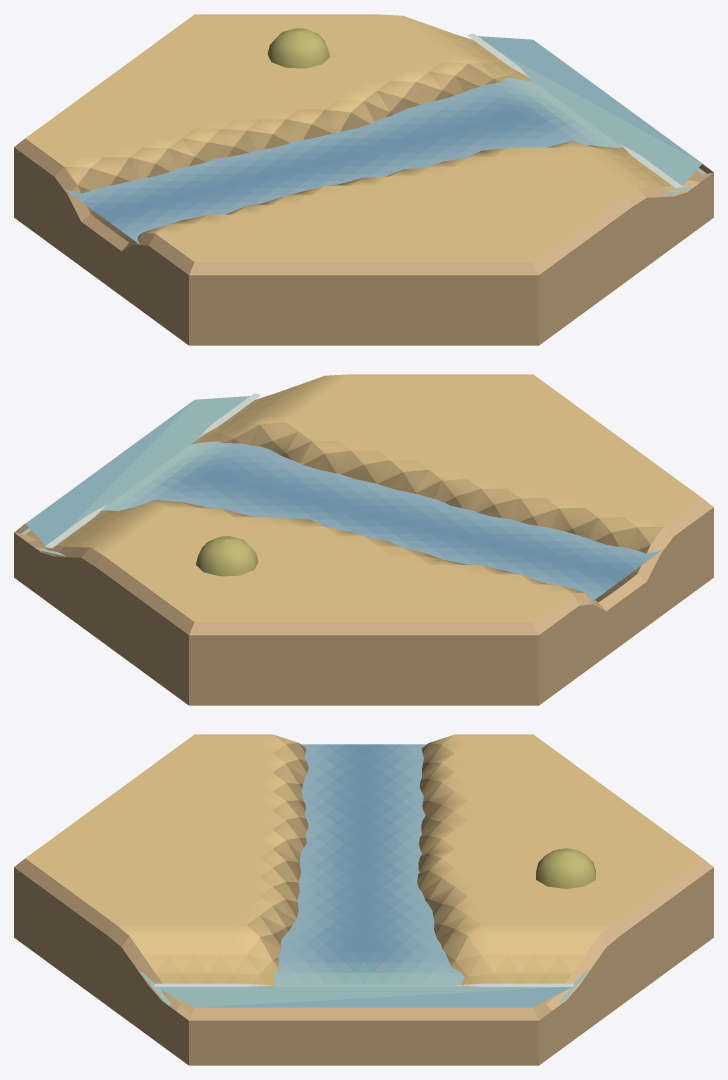
File: estuary_sea1_edge3_dry.fbx
The picture shows the model from 3 angles, top to bottom: view 1: azimuth 30°, elevation 25°; view 2: azimuth 150°, elevation 25°; view 3: azimuth 270°, elevation 25°; orthographic projection.
Parts seen in each view (by area): view 1: estuary_sea1_edge3_dry; view 2: estuary_sea1_edge3_dry; view 3: estuary_sea1_edge3_dry.
Part boxes in pixels (<box>): estuary_sea1_edge3_dry: <box>14,14,713,345</box>; estuary_sea1_edge3_dry: <box>14,374,713,705</box>; estuary_sea1_edge3_dry: <box>14,734,713,1065</box>.
Size of the model in its own units: 1.73 by 0.3265 by 2.
